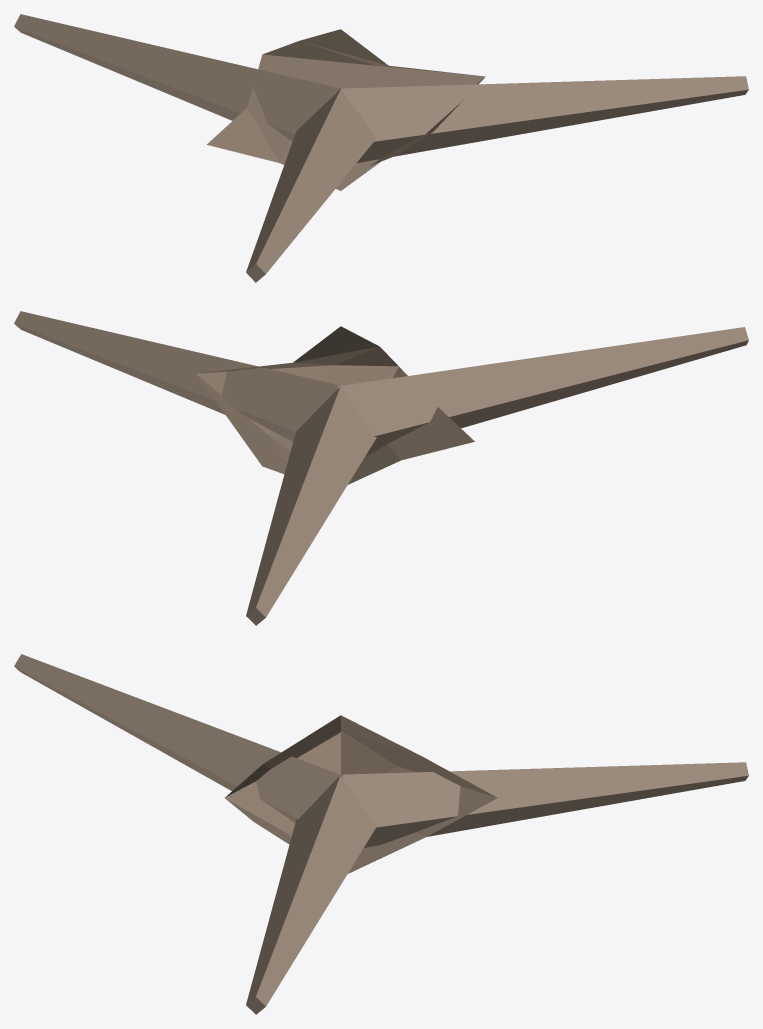
The picture shows the model from 3 angles, top to bottom: view 1: azimuth 30°, elevation 25°; view 2: azimuth 150°, elevation 25°; view 3: azimuth 270°, elevation 25°; orthographic projection.
Parts seen in each view (by area): view 1: lod0; view 2: lod0; view 3: lod0.
Part boxes in pixels (x1,y1,x2,y2): lod0: [14, 14, 748, 282]; lod0: [14, 311, 748, 625]; lod0: [14, 654, 748, 1014].
Size of what is drawn, in the model's own units: 0.8325 by 0.2093 by 0.8605.
